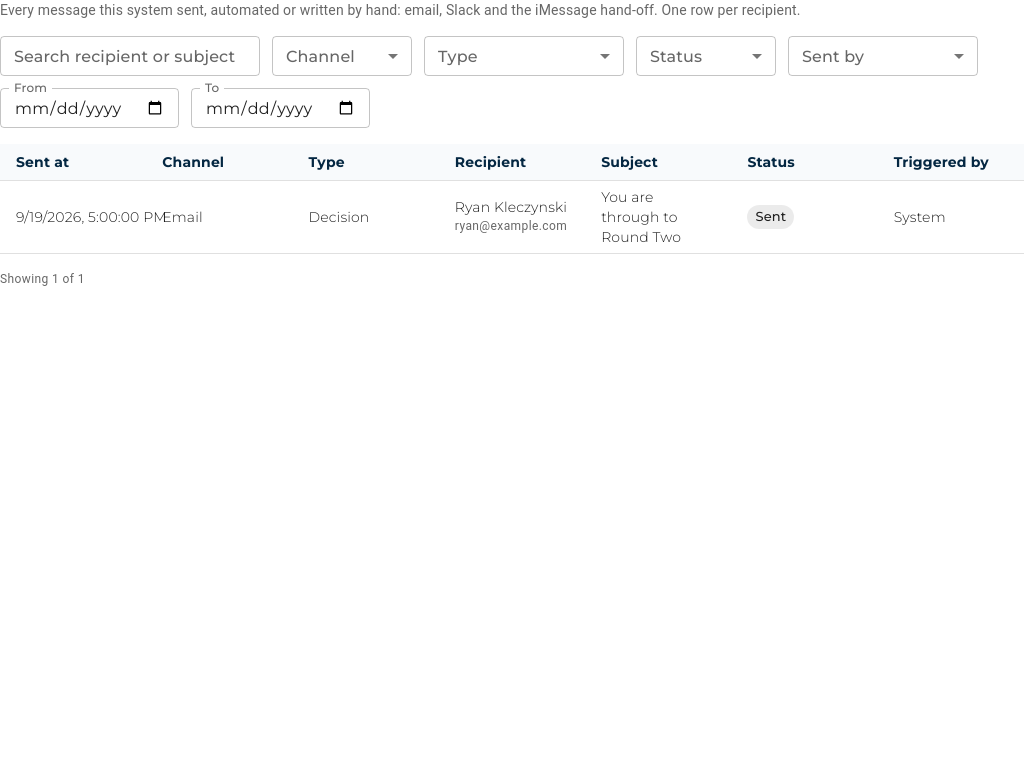
Test: the log › opens the message body on a row
This screenshot has width=1024, height=768.
Click the text "You are through to Round Two" at (658, 218), box [585,181,731,254]
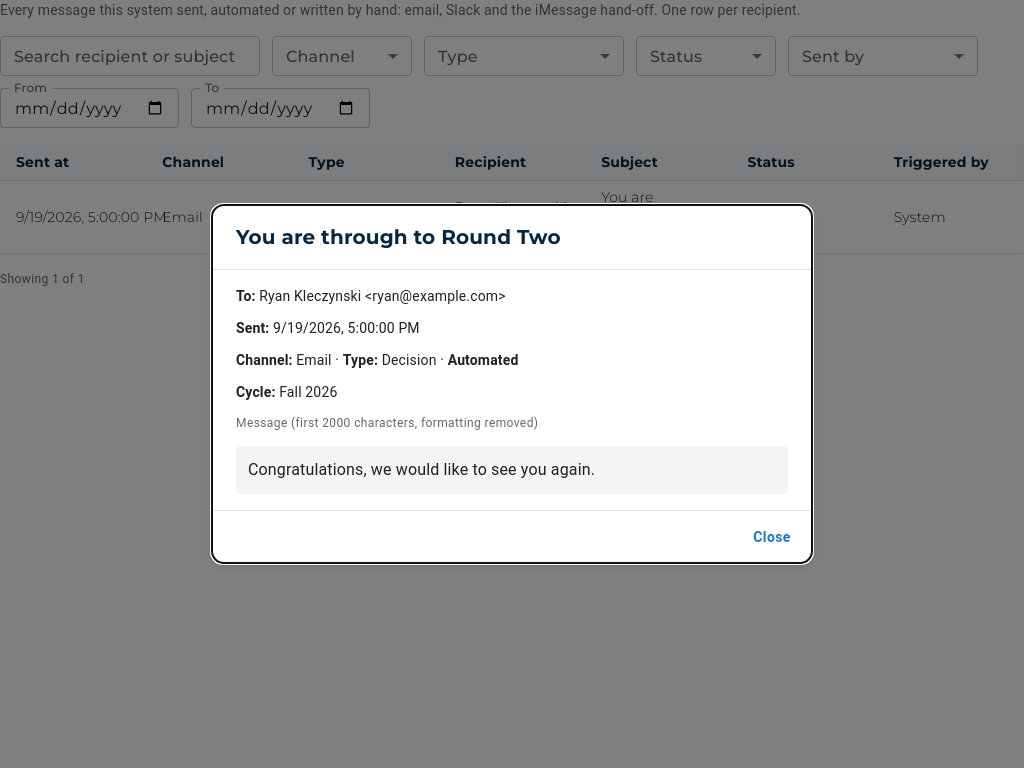
Expected: the text "Congratulations, we would like to see you again." is shown, [236,446,788,494]
Expected: the text "To: Ryan Kleczynski <ryan@example.com>" is shown, [236,288,506,304]
